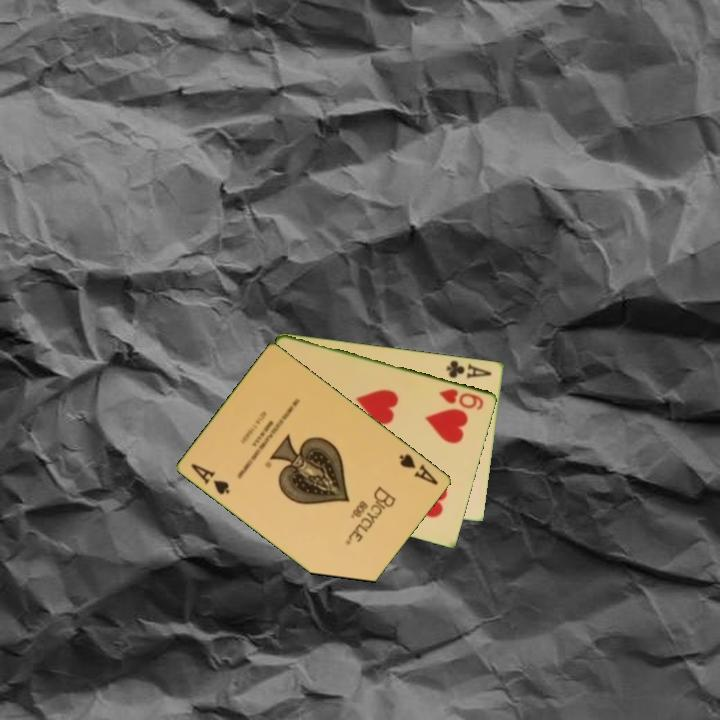6h: (436, 385, 487, 413)
Ac: (443, 356, 494, 381)
As: (396, 450, 442, 488), (188, 460, 233, 497)
